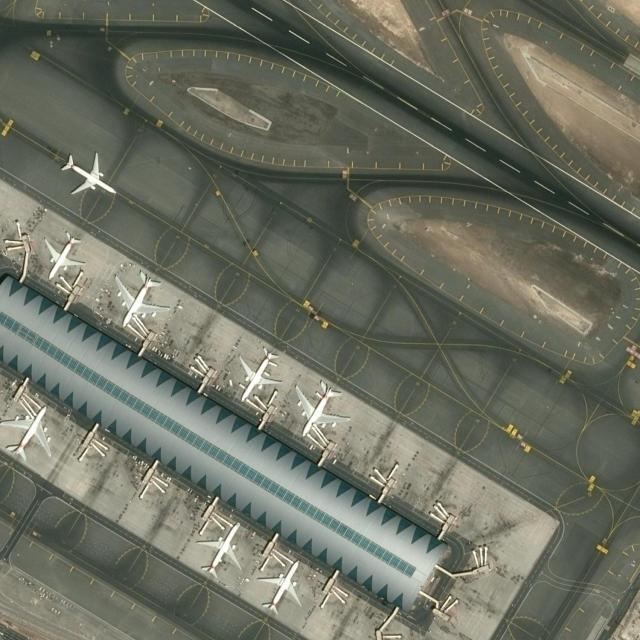Aircraft: (109, 267, 171, 329), (290, 375, 350, 439), (1, 400, 55, 470), (55, 146, 121, 196), (231, 343, 282, 405), (194, 518, 244, 578), (255, 555, 303, 613), (39, 225, 87, 281)
